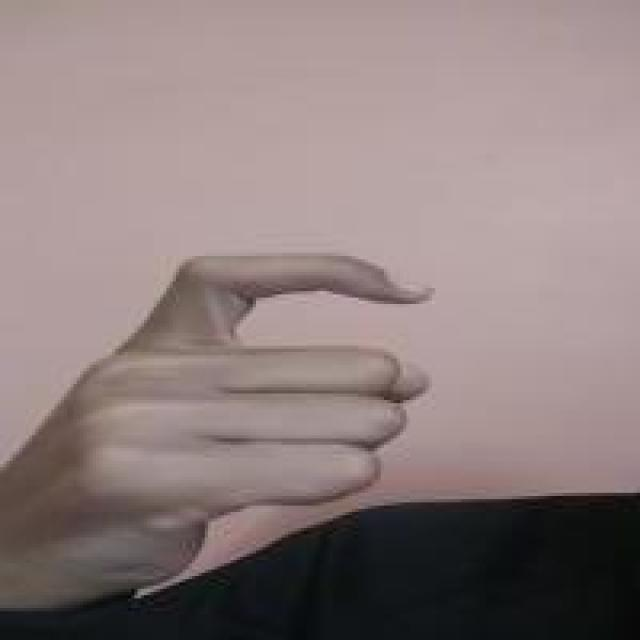X: (0, 240, 435, 621)
